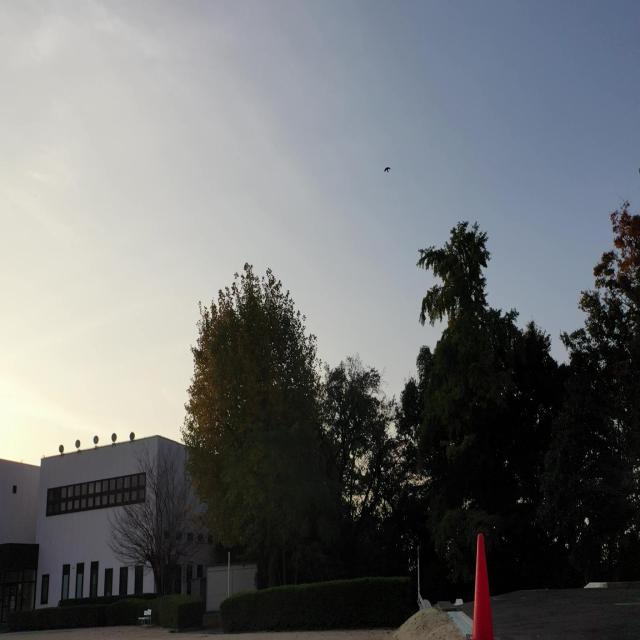Birds: (381, 163, 393, 175)
